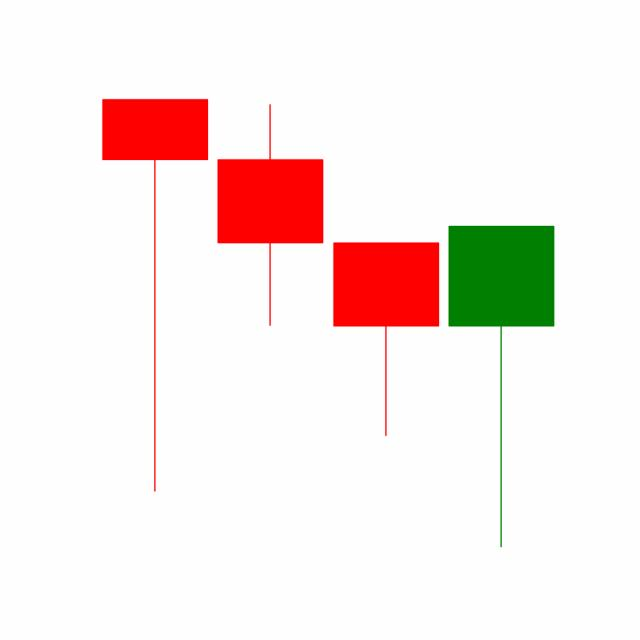Hammer: (328, 240, 444, 438)
